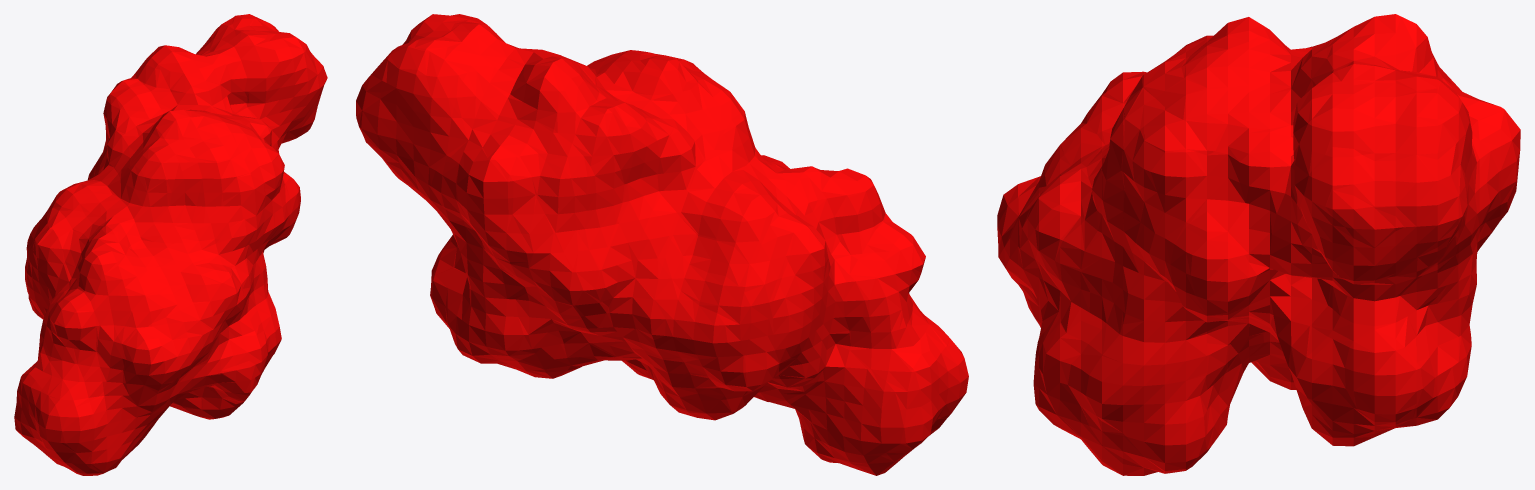
File: purK_coarse.dae
3 renders of one model, left to right at view 1: azimuth 30°, elevation 25°; view 2: azimuth 150°, elevation 25°; view 3: azimuth 270°, elevation 25°, orthographic. The views are drawn at different scales.
Parts seen in each view (by area): view 1: purK; view 2: purK; view 3: purK.
Boxes of the visible parts, x1,y1,x2,y2 form: purK: (14, 14, 327, 475); purK: (356, 14, 968, 475); purK: (997, 14, 1520, 475).
Bounding box in the file's own units: 90.35 × 78.02 × 71.
